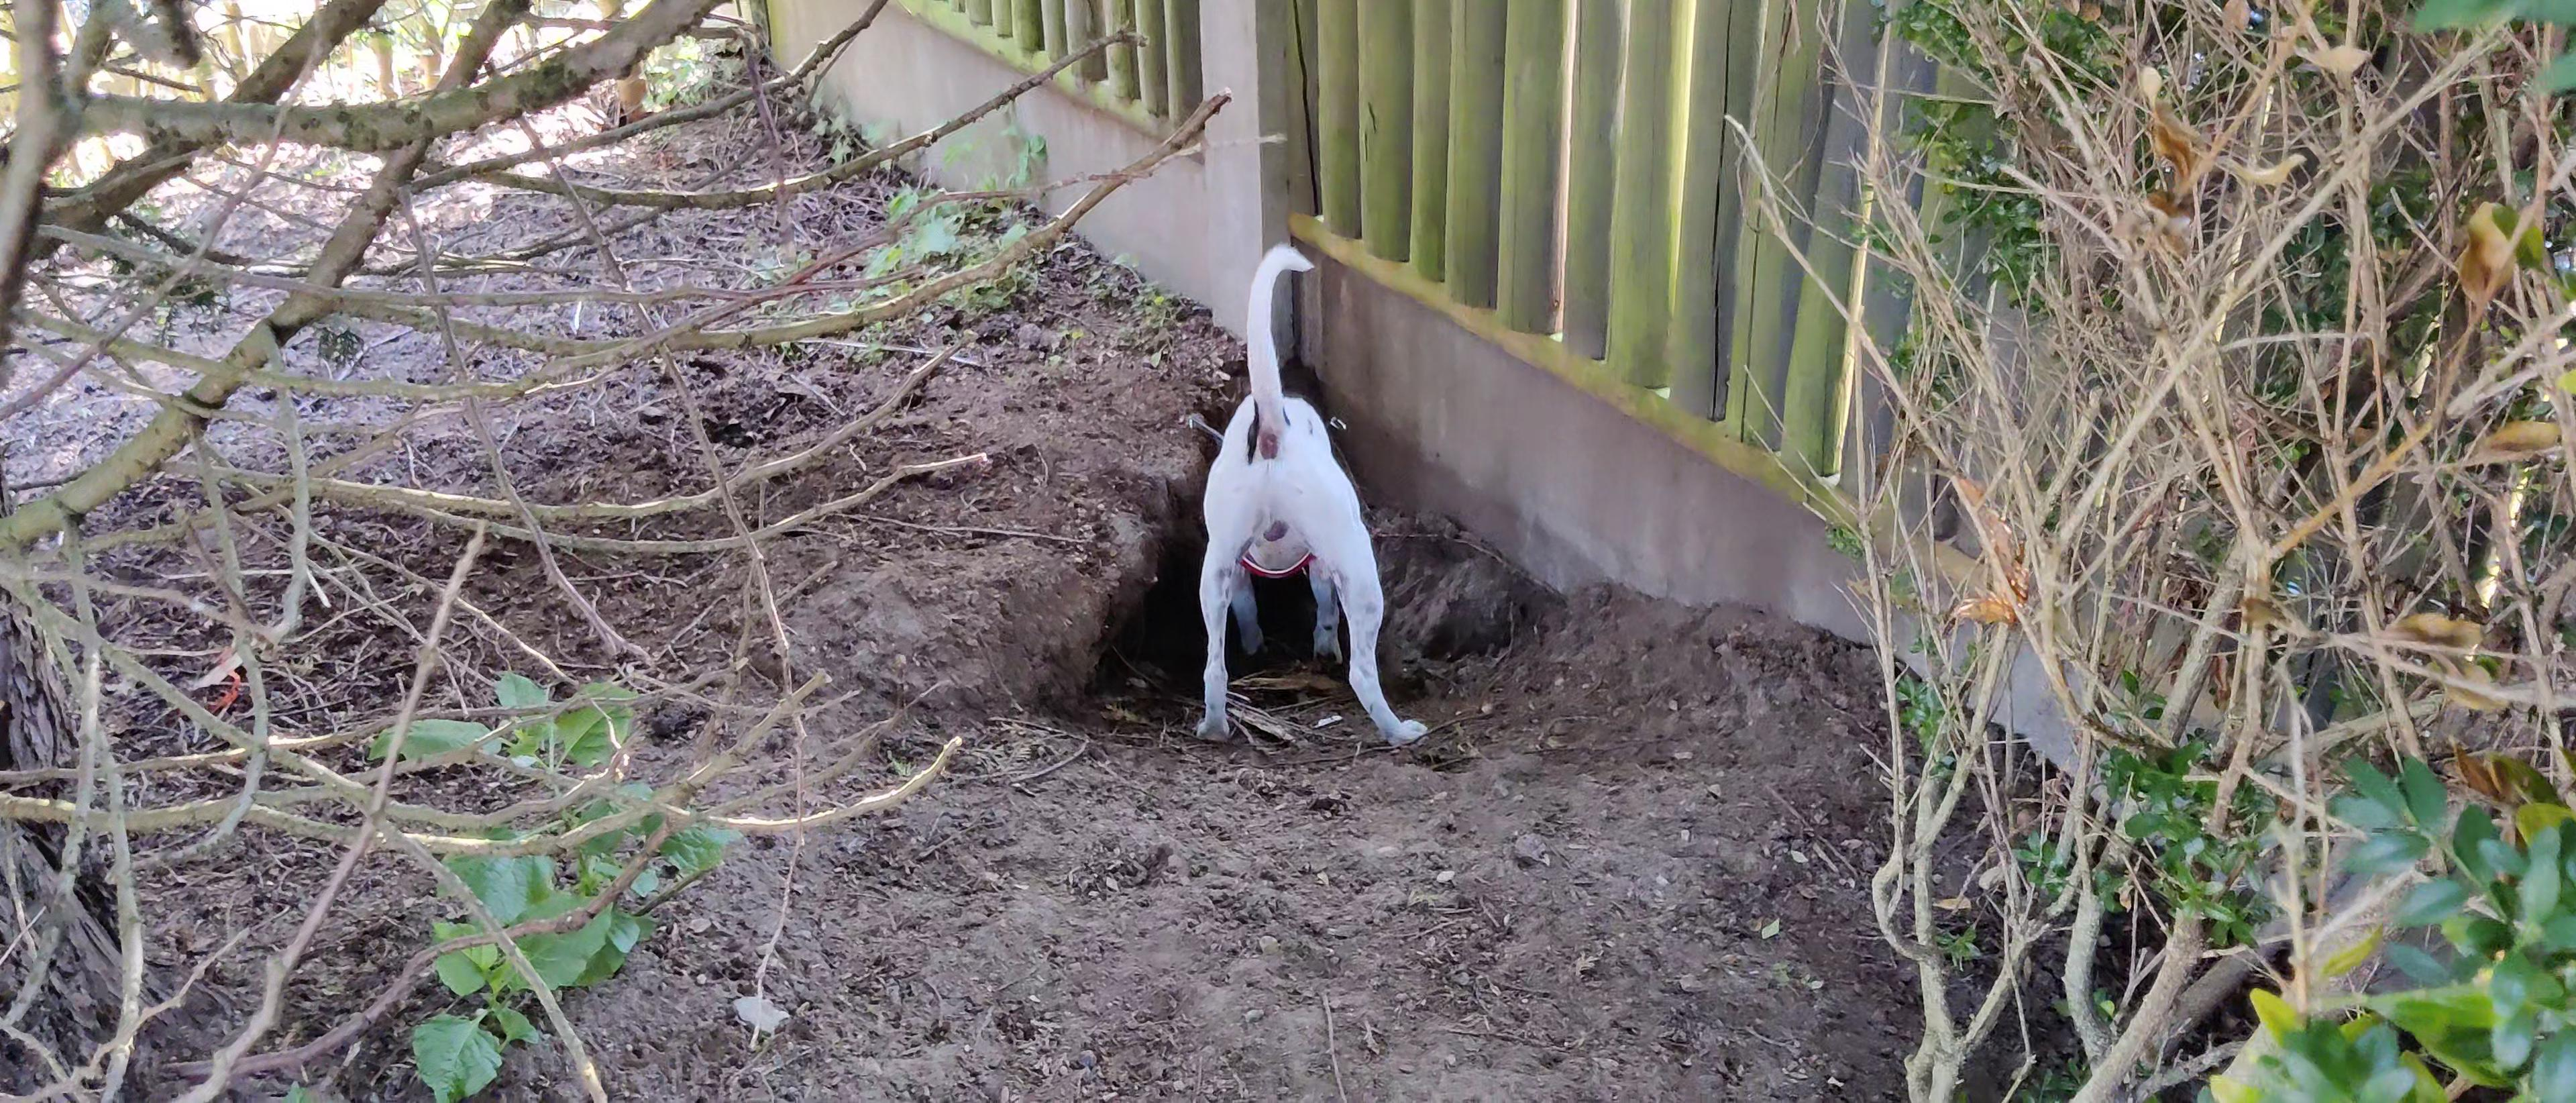Dog: (1155, 228, 1446, 761)
